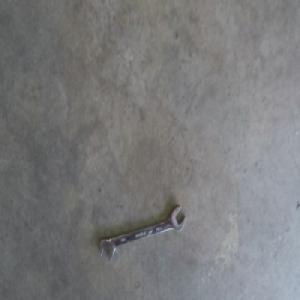Wrench: (99, 208, 186, 266)
